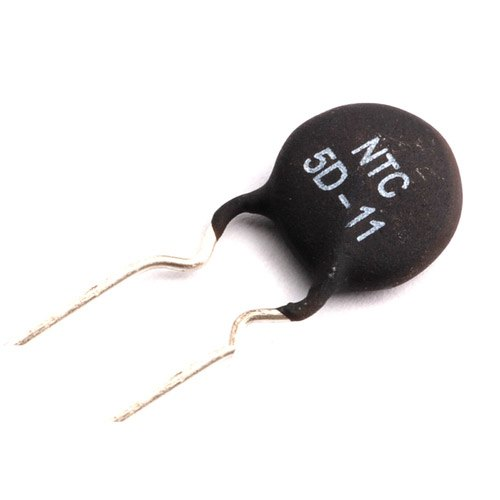capacitor: (152, 38, 487, 409)
